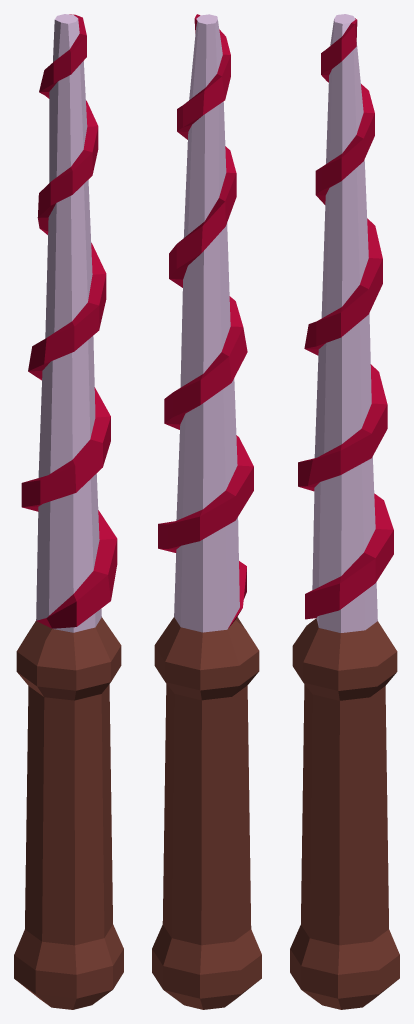
File: SpiralWand.fbx
3 renders of one model, left to right at view 1: azimuth 30°, elevation 25°; view 2: azimuth 150°, elevation 25°; view 3: azimuth 330°, elevation 25°, orthographic.
Parts seen in each view (by area): view 1: SpiralWand; view 2: SpiralWand; view 3: SpiralWand.
Boxes of the visible parts, x1=… form: SpiralWand: x1=14, y1=14, x2=123, y2=1009; SpiralWand: x1=152, y1=14, x2=261, y2=1009; SpiralWand: x1=290, y1=14, x2=399, y2=1009.
Bounding box in the file's own units: 1.27 × 13.42 × 1.27.
